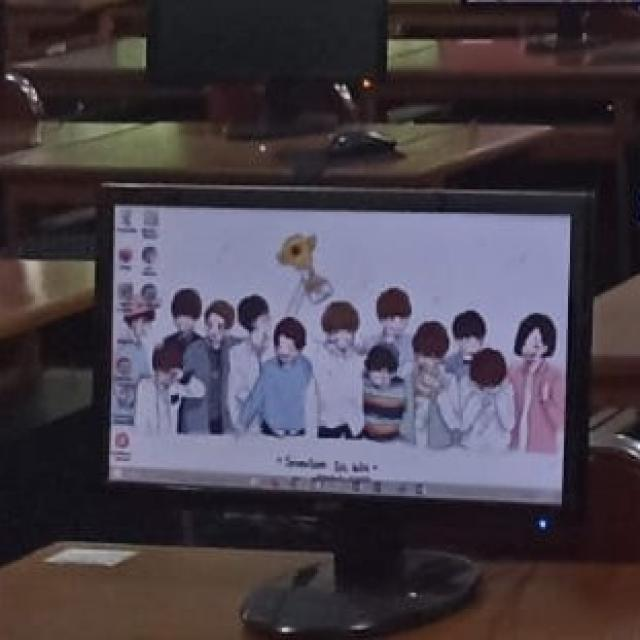onscreen: (97, 187, 589, 538)
